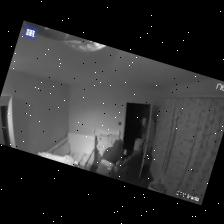person: (97, 140, 123, 178)
